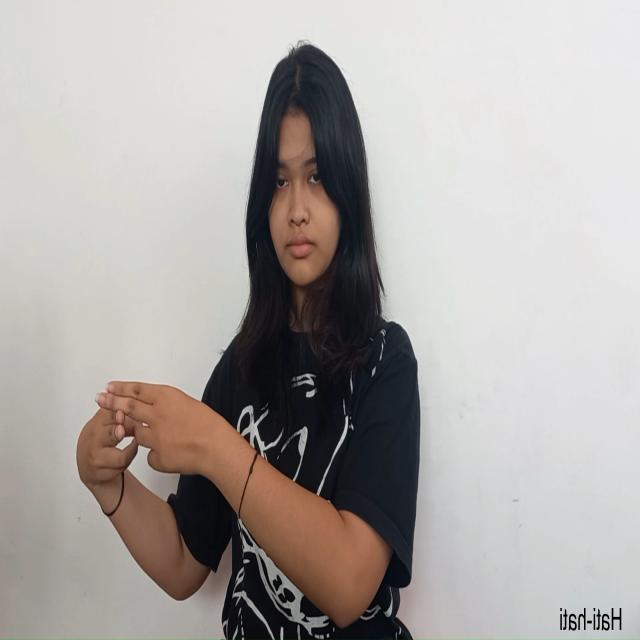Hati-hati -BISINDO-: (76, 381, 212, 486)
